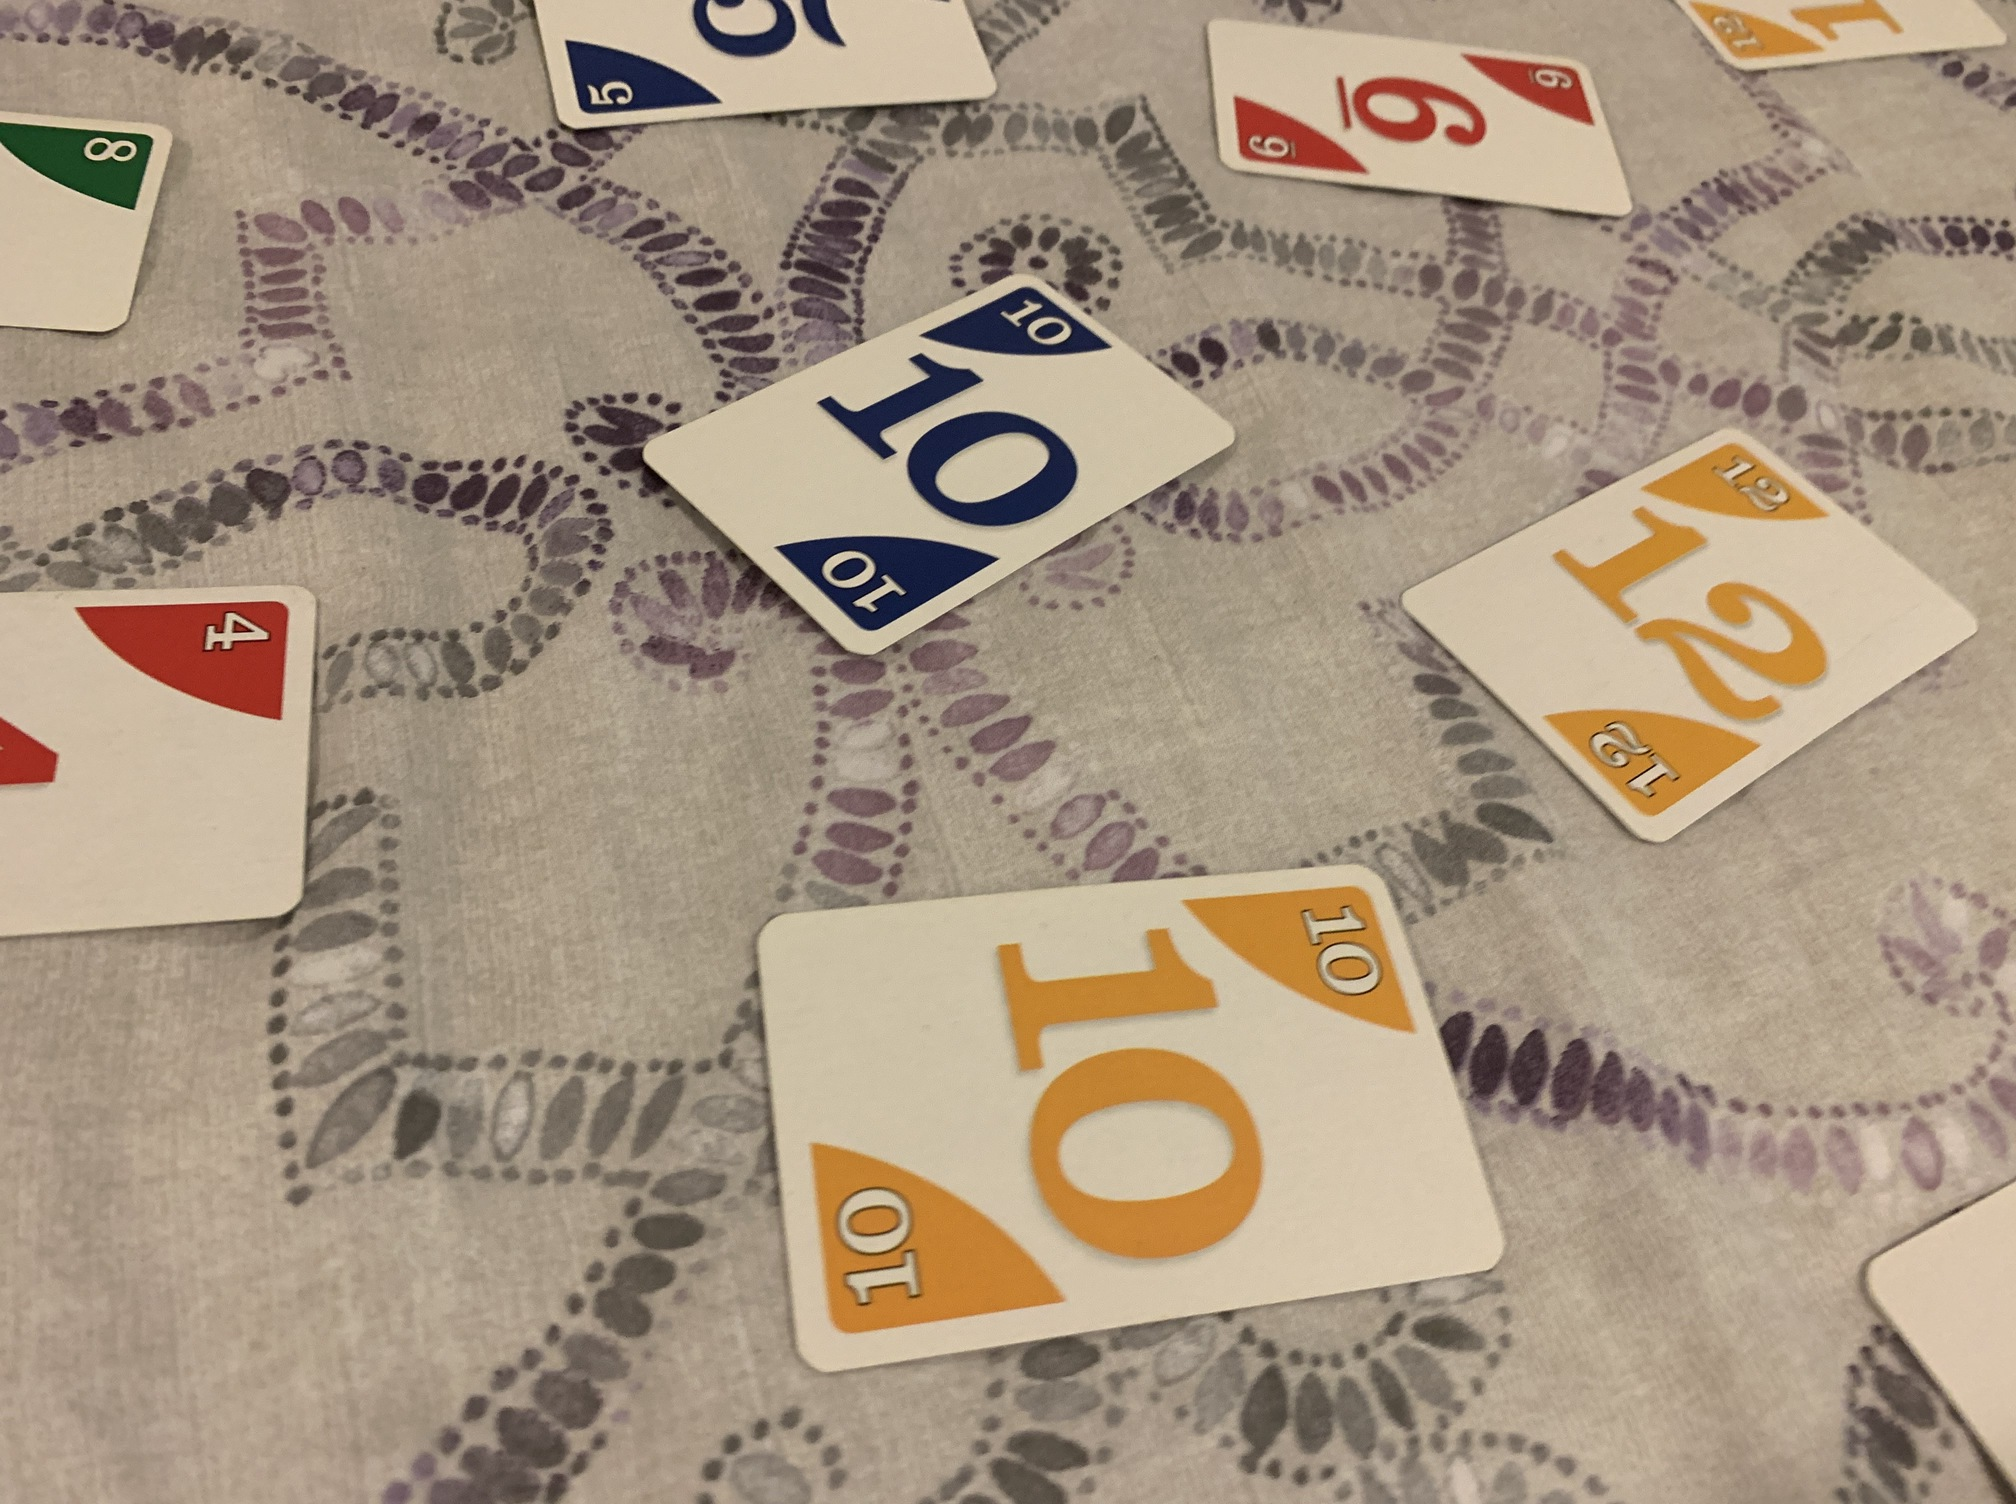six: (1201, 9, 1635, 227)
ten: (752, 858, 1533, 1392), (630, 272, 1243, 657)
twelve: (1371, 430, 1992, 844)
